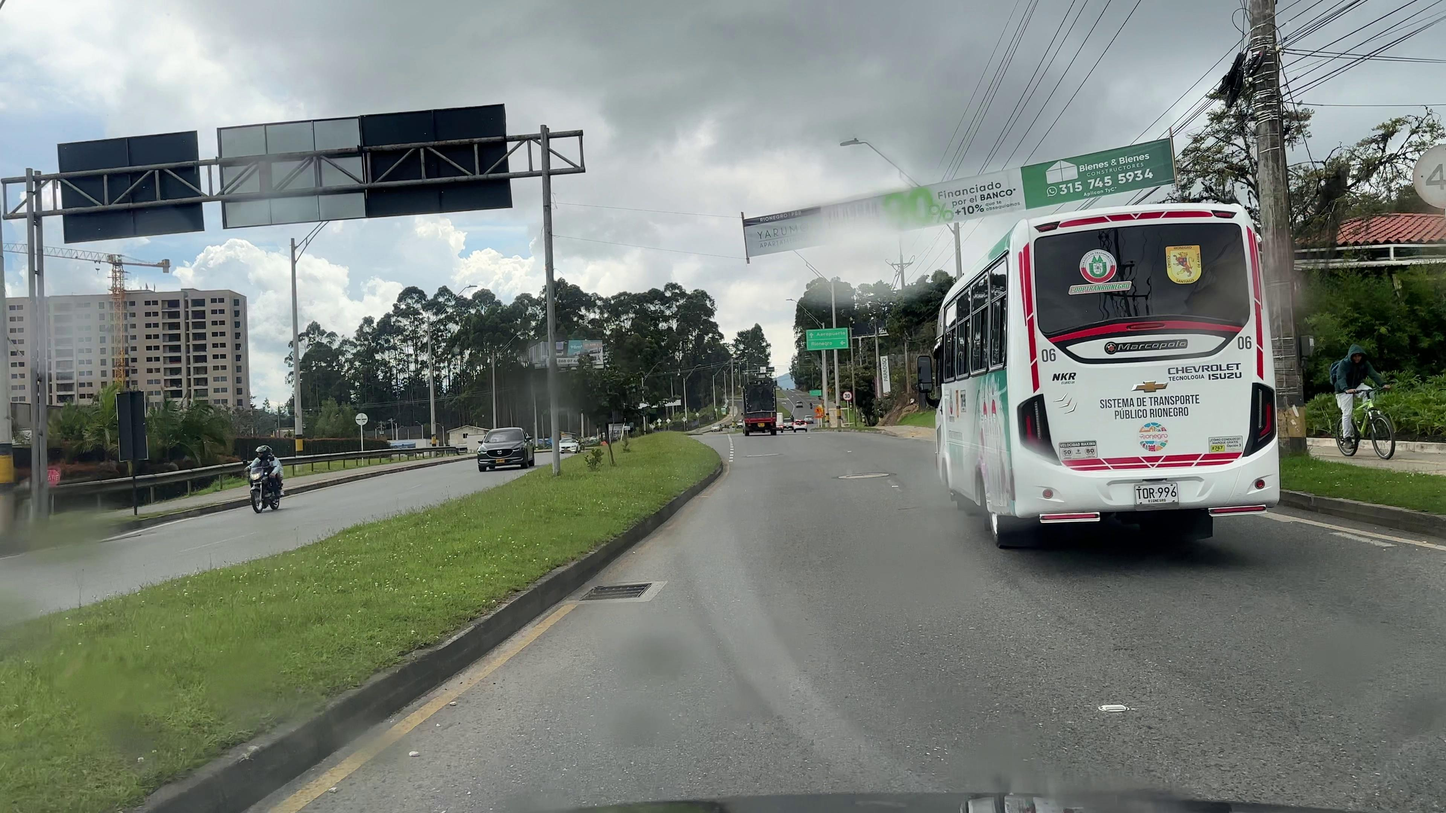registro: (846, 474, 882, 478)
rejilla: (579, 583, 651, 600)
